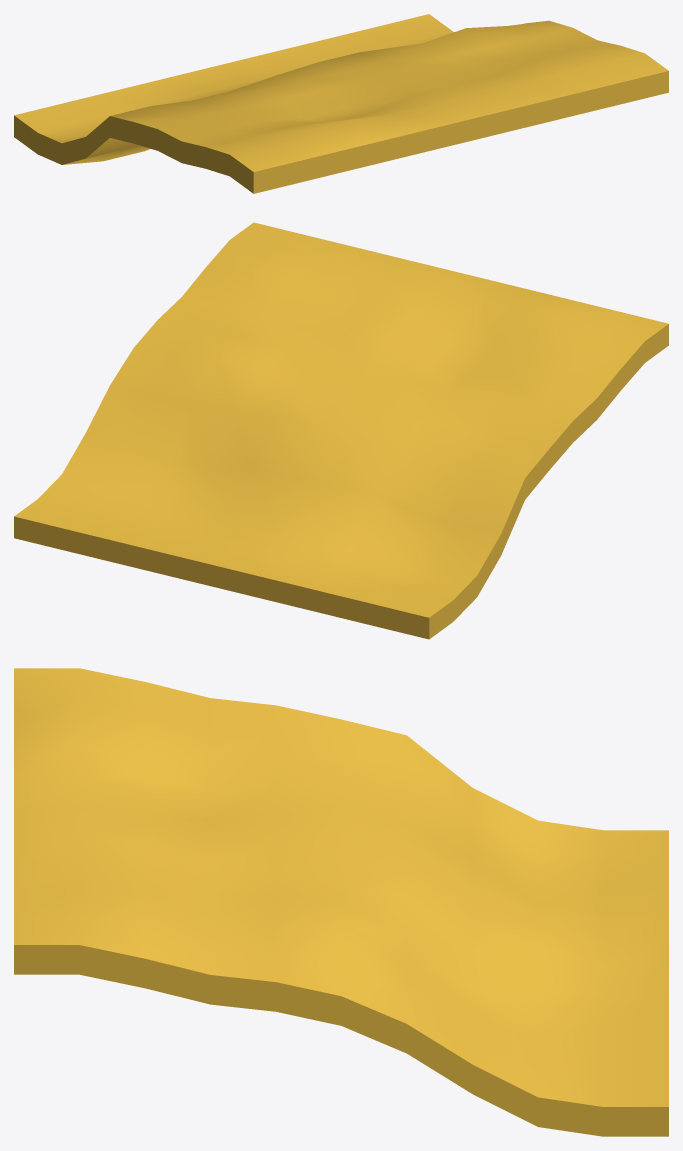
File: Flach - Unten - Hügel a - a.fbx
The picture shows the model from 3 angles, top to bottom: view 1: azimuth 30°, elevation 25°; view 2: azimuth 150°, elevation 25°; view 3: azimuth 270°, elevation 25°; orthographic projection. The views are drawn at different scales.
Visible parts, largest first — view 1: Flach - Unten - Hügel a - a; view 2: Flach - Unten - Hügel a - a; view 3: Flach - Unten - Hügel a - a.
Part boxes in pixels (x1=…): Flach - Unten - Hügel a - a: x1=14, y1=14, x2=668, y2=193; Flach - Unten - Hügel a - a: x1=14, y1=222, x2=668, y2=639; Flach - Unten - Hügel a - a: x1=14, y1=668, x2=668, y2=1136.
Bounding box in the file's own units: 394 × 132 × 394.
